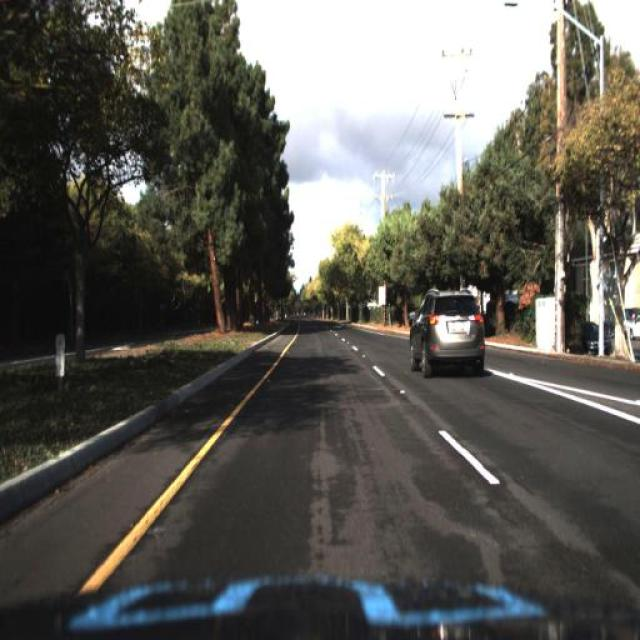car: (408, 288, 486, 378)
